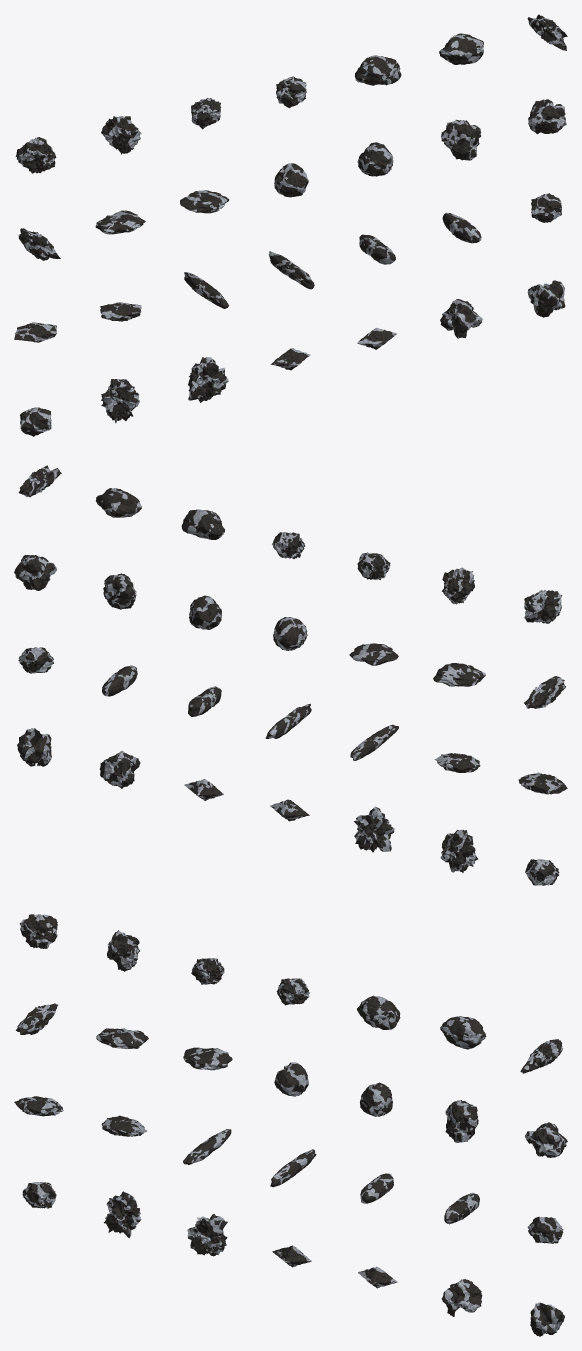
Rendered from asteroids_lod1.glb.
3 views of the same model, one above another, from view 1: azimuth 30°, elevation 25°; view 2: azimuth 150°, elevation 25°; view 3: azimuth 330°, elevation 25° (orthographic).
Parts seen in each view (by area): view 1: jagged_B_LOD1, cluster_A_LOD1, jagged_A_LOD1, potato_A_LOD1, cluster_B_LOD1, potato_B_LOD1, lumpy_B_LOD1, lumpy_A_LOD1, hollow_A_LOD1, hollow_B_LOD1, cratered_B_LOD1, cratered_A_LOD1 (+14 smaller); view 2: jagged_B_LOD1, jagged_A_LOD1, cluster_B_LOD1, lumpy_A_LOD1, hollow_A_LOD1, hollow_B_LOD1, potato_A_LOD1, potato_B_LOD1, cluster_A_LOD1, pancake_A_LOD1, cratered_A_LOD1, lumpy_B_LOD1 (+14 smaller); view 3: jagged_B_LOD1, jagged_A_LOD1, cluster_A_LOD1, potato_B_LOD1, potato_A_LOD1, lumpy_A_LOD1, hollow_A_LOD1, cluster_B_LOD1, lumpy_B_LOD1, pancake_B_LOD1, cratered_B_LOD1, hollow_B_LOD1 (+14 smaller).
Part boxes in pixels (x1,y1,x2,y2): jagged_B_LOD1: (188,357,228,402); cluster_A_LOD1: (441,119,481,160); jagged_A_LOD1: (101,379,139,423); potato_A_LOD1: (355,55,401,85); cluster_B_LOD1: (528,99,566,134); potato_B_LOD1: (439,33,483,64); lumpy_B_LOD1: (101,116,141,154); lumpy_A_LOD1: (15,137,56,173); hollow_A_LOD1: (440,299,482,338); hollow_B_LOD1: (527,280,565,317); cratered_B_LOD1: (357,142,393,176); cratered_A_LOD1: (274,163,308,197); jagged_B_LOD1: (354,806,394,852); jagged_A_LOD1: (440,829,478,872); cluster_B_LOD1: (14,555,56,590); lumpy_A_LOD1: (524,590,562,623); hollow_A_LOD1: (99,750,140,788); hollow_B_LOD1: (17,728,51,766); potato_A_LOD1: (181,509,224,539); potato_B_LOD1: (96,488,141,517); cluster_A_LOD1: (103,573,136,609); pancake_A_LOD1: (433,663,485,686); cratered_A_LOD1: (273,617,307,650); lumpy_B_LOD1: (442,567,474,604); jagged_B_LOD1: (187,1214,227,1256); jagged_A_LOD1: (104,1191,141,1238); cluster_A_LOD1: (445,1100,478,1142); potato_B_LOD1: (440,1016,486,1049); potato_A_LOD1: (357,995,400,1029); lumpy_A_LOD1: (19,914,57,948); hollow_A_LOD1: (441,1279,482,1316); cluster_B_LOD1: (525,1122,567,1157); lumpy_B_LOD1: (107,930,139,971); pancake_B_LOD1: (183,1047,232,1070); cratered_B_LOD1: (360,1082,392,1116); hollow_B_LOD1: (530,1302,564,1336).
Bounding box in the file's own units: 38.9 × 20.74 × 5.46.
Materials: 2 (2 with a texture image).
